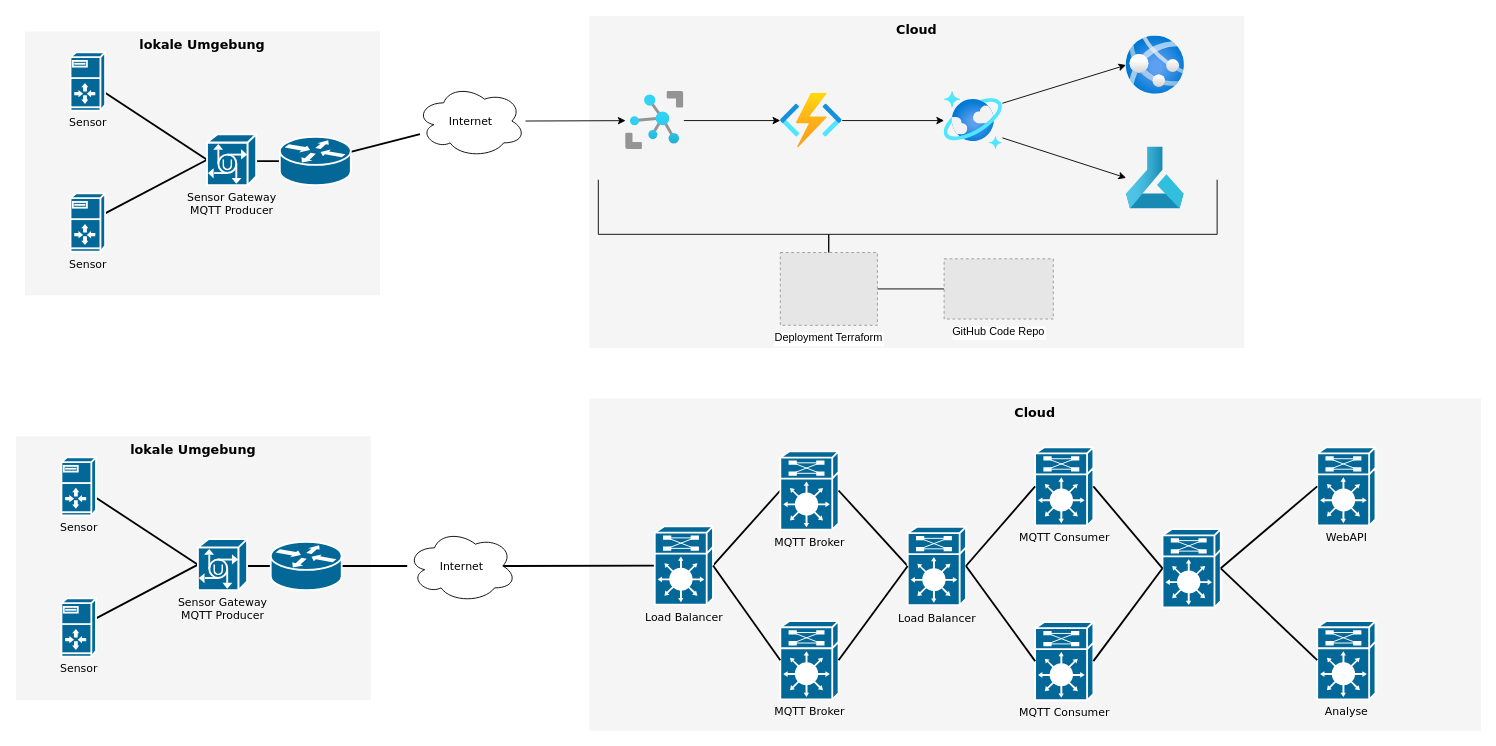
Some shapes in this 1496 by 746 pixel diagram are drawn without their labels. Grey dashed boxes stand in for pictures. Here are the shapes that lost their labels. From the top down, the box of each, then its label:
(1126, 35, 1184, 94): Web API
(625, 91, 683, 149): Azure IoT Hub
(780, 93, 842, 147): Data Processing
(944, 91, 1002, 149): Cosmos DB
(1126, 147, 1184, 208): Analytics
(1161, 528, 1221, 608): NoSQL DB
